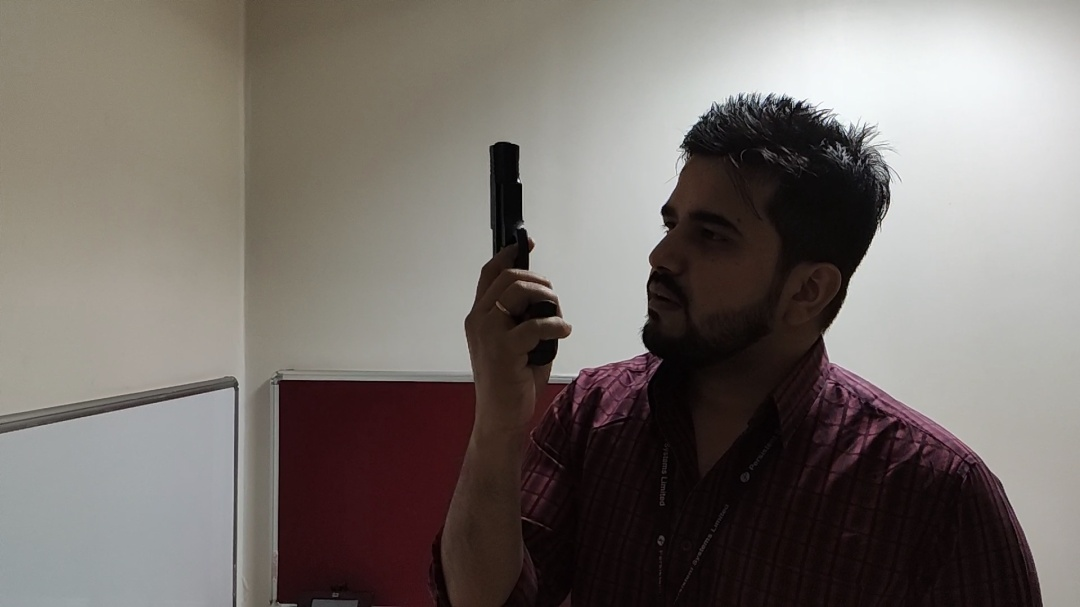gun: (461, 122, 553, 420)
